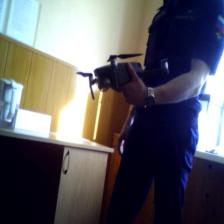drone: (76, 52, 182, 99)
